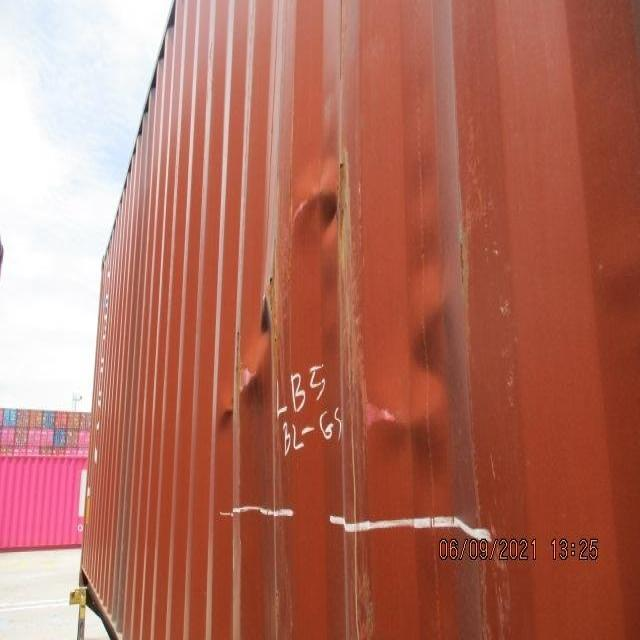dent: (212, 108, 530, 512)
